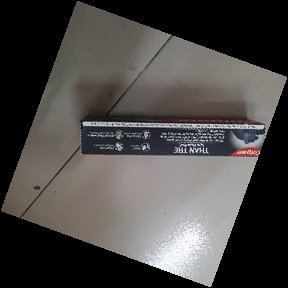Colgate Than: (79, 112, 266, 161)
